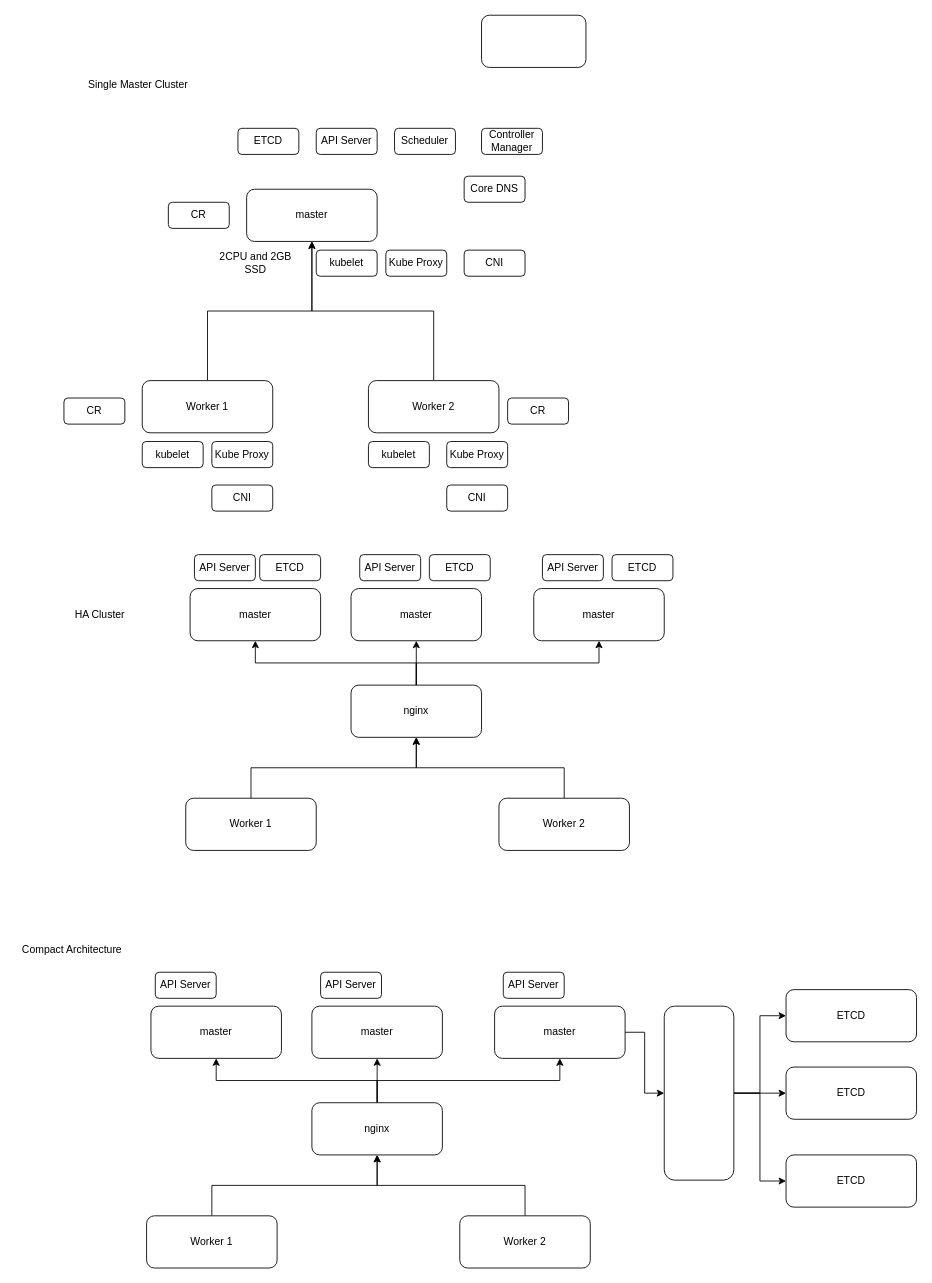
The diagram is 932 pixels wide and 1283 high, and some of its shapes have lost their labels. Here are the shapes that lost their labels. From the top down, the box of each, then its label:
(481, 14, 586, 67): CLI
(663, 1005, 734, 1180): LB
